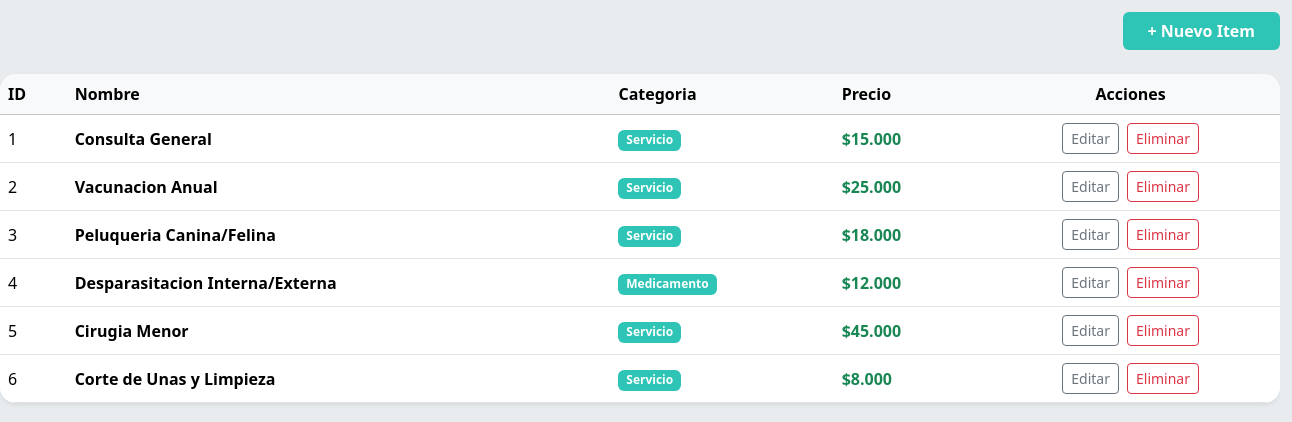
Test case: Prueba 7: CRUD Catalogo - Eliminar › remueve un servicio de la tabla tras confirmar la accion
Expected: the text "Cirugia Menor" is shown, [67, 306, 610, 354]
Expected: the row "5 Cirugia Menor Servicio $45.000 Editar Eliminar" is shown, [0, 306, 1280, 354]
Click the button with class "btn-outline-danger" in the row of "Cirugia Menor". click: (1163, 330)
box: [1127, 315, 1199, 346]
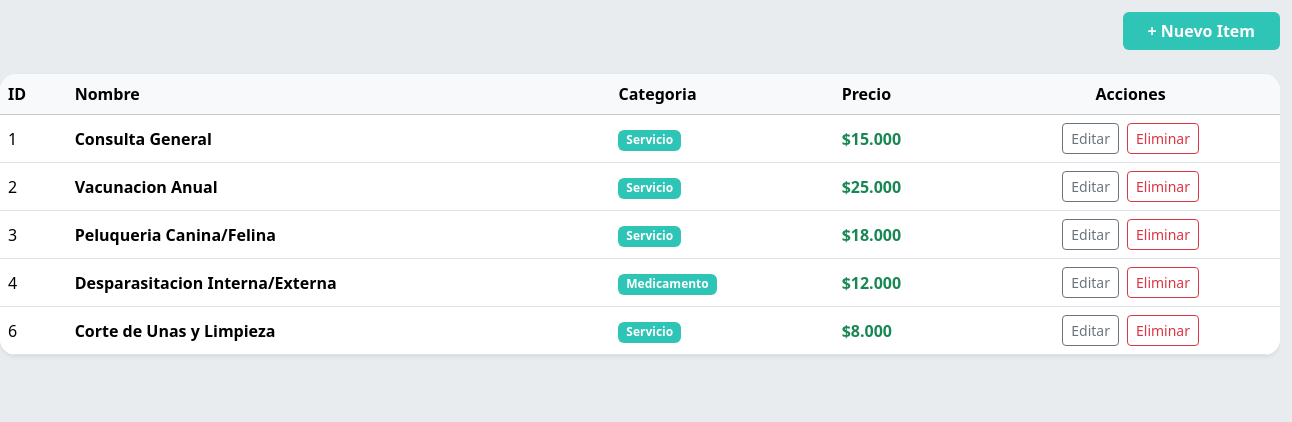
Expected: the text "Cirugia Menor" is gone
